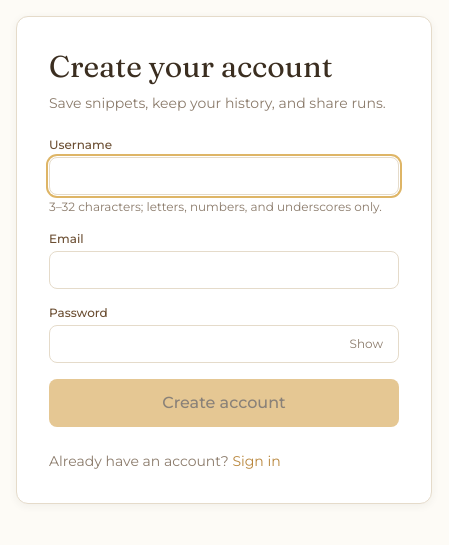
it: RegisterPage › keeps submit disabled until all fields are valid
Check: the button "Create account" is disabled, box [49,379,399,427]
Type "newuser" into the field labelled "Username" at (224, 176), box [49,157,399,195]
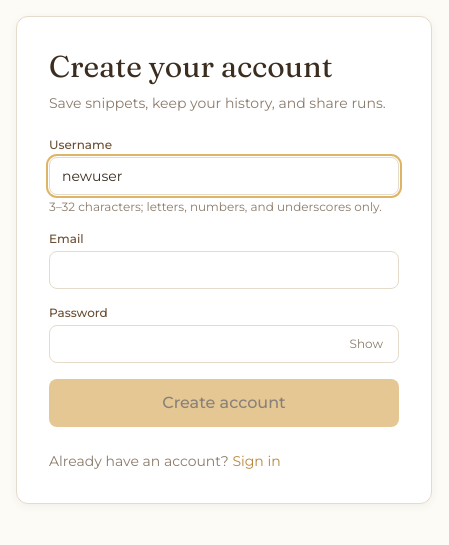
Type "new@example.com" into the field labelled "Email" at (224, 270), box [49,251,399,289]
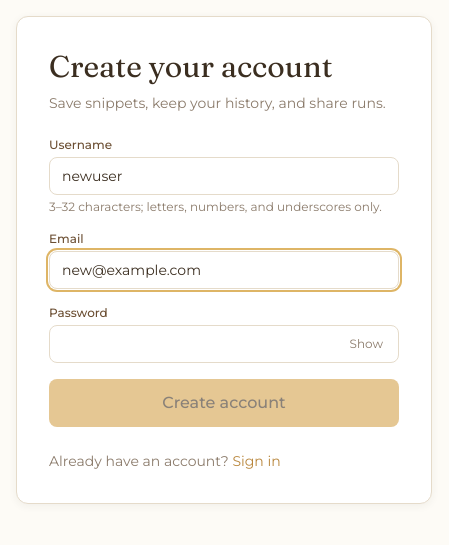
Type "secret1pass" into the password field labelled "Password" at (224, 344), box [49,325,399,363]
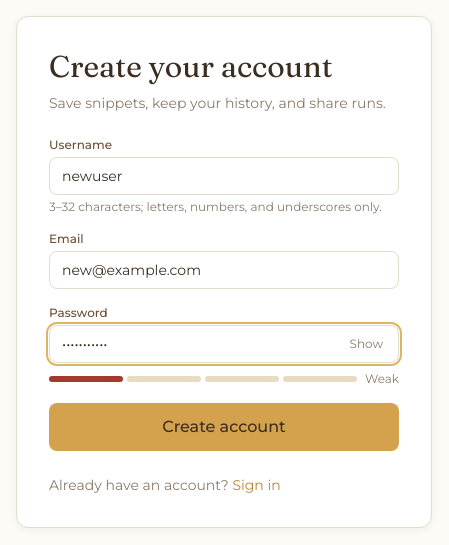
Check: the button "Create account" is enabled, box [49,403,399,451]
